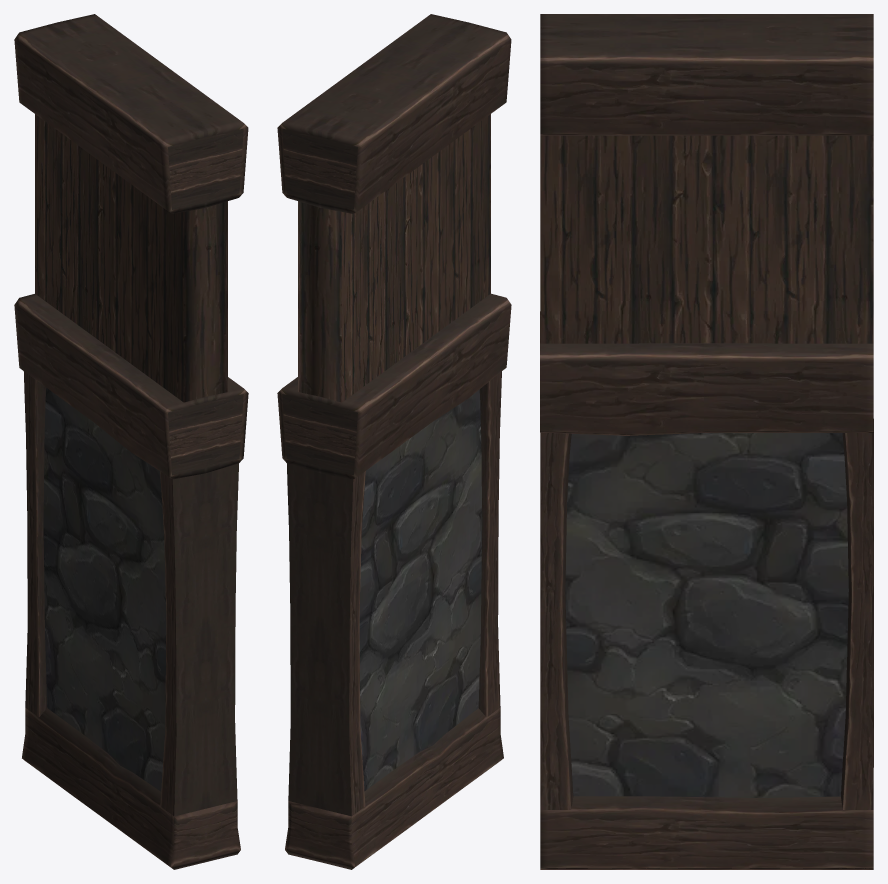
3 renders of one model, left to right at view 1: azimuth 30°, elevation 25°; view 2: azimuth 150°, elevation 25°; view 3: azimuth 270°, elevation 25°, orthographic. The views are drawn at different scales.
Bounding box in the file's own units: 1.35 × 11.01 × 4.07.
Materials: 4 (4 with a texture image).
